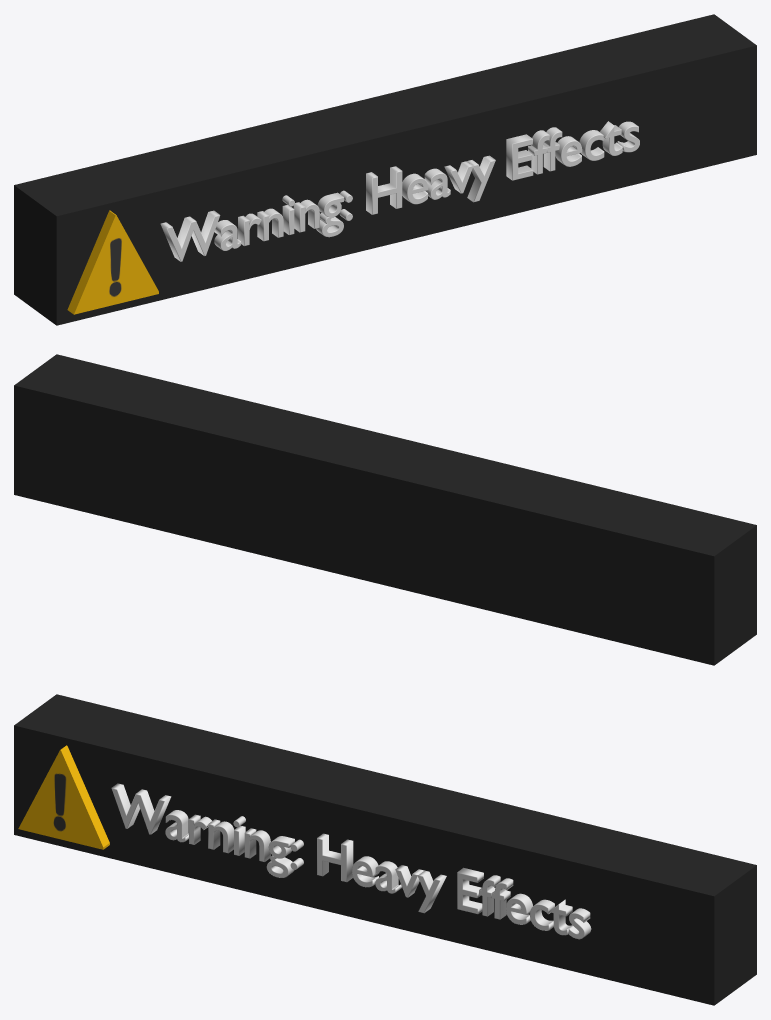
File: Warning_ Heavy Effects.fbx
3 views of the same model, one above another, from view 1: azimuth 30°, elevation 25°; view 2: azimuth 150°, elevation 25°; view 3: azimuth 330°, elevation 25° (orthographic).
Parts seen in each view (by area): view 1: no1, Warning: Heavy Effects; view 2: no1; view 3: no1, Warning: Heavy Effects.
Boxes of the visible parts, left/top/right/bottom form: no1: left=14, top=14, right=756, bottom=325; Warning: Heavy Effects: left=160, top=121, right=639, bottom=261; no1: left=14, top=354, right=756, bottom=665; no1: left=14, top=694, right=756, bottom=1005; Warning: Heavy Effects: left=111, top=783, right=591, bottom=939.
Size of the model in its own units: 2646 by 395 by 322.
